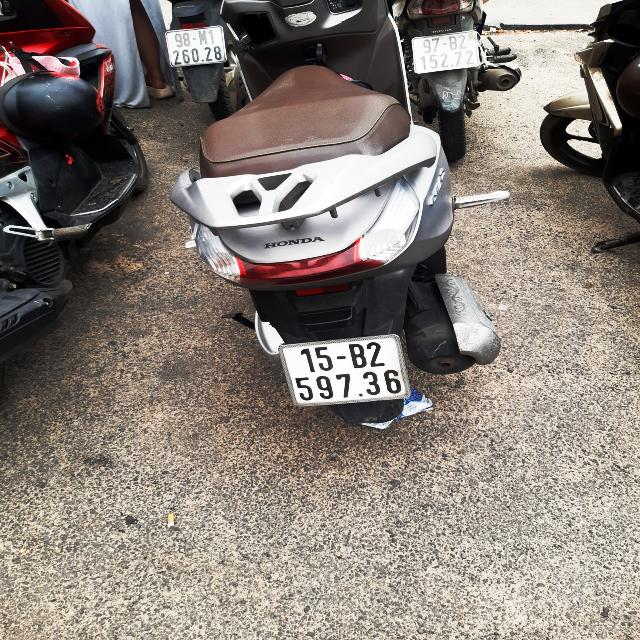license_plate: (271, 331, 421, 413), (408, 28, 484, 78), (162, 25, 234, 73)
